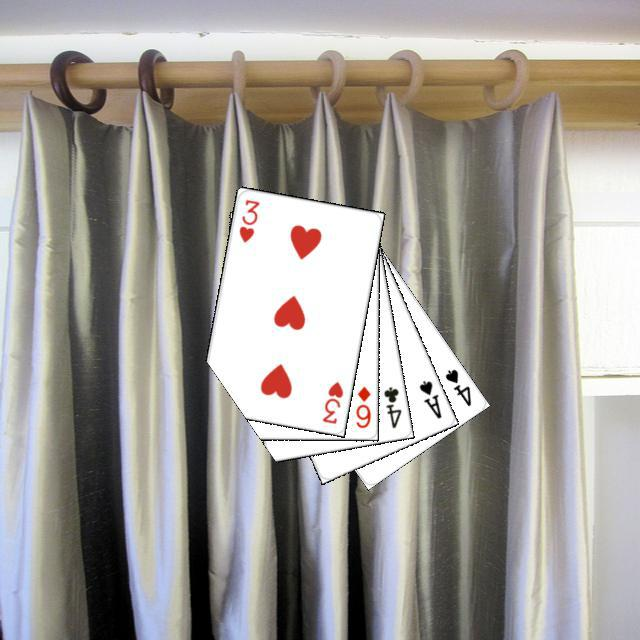3h: (317, 376, 345, 426), (234, 195, 261, 244)
4c: (379, 381, 403, 430)
4s: (440, 364, 473, 408)
6d: (351, 381, 372, 430)
As: (414, 376, 443, 421)
